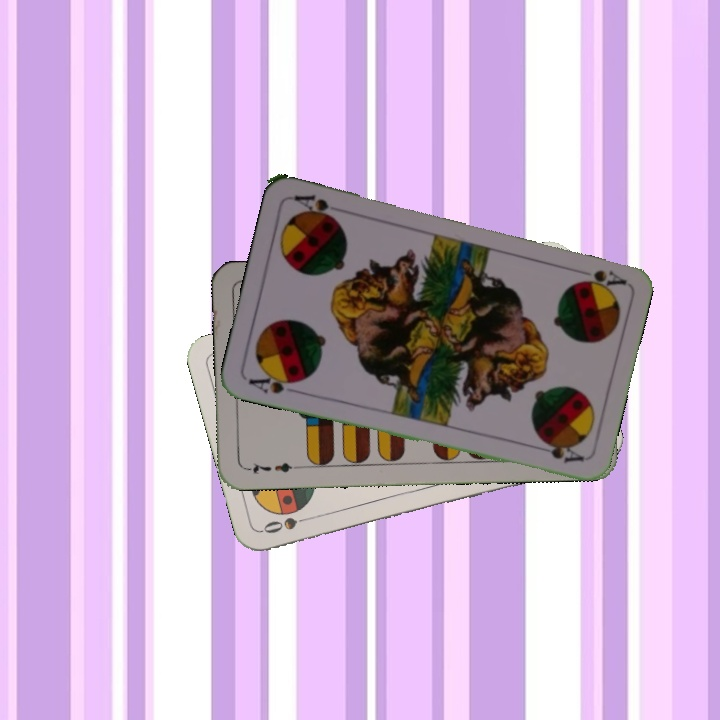E7: (242, 458, 301, 477)
SA: (244, 368, 305, 397), (579, 265, 628, 289)
SO: (259, 512, 317, 536)
